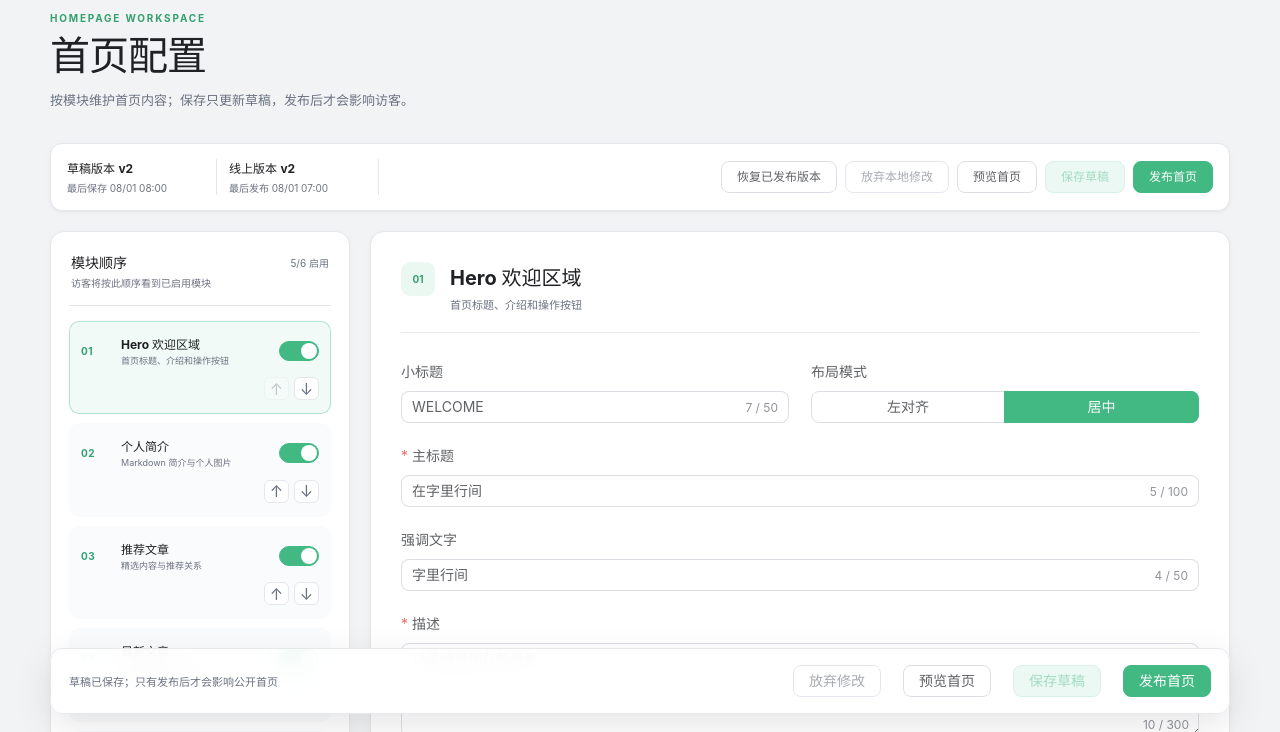
HomepageSettingsView › loads all fixed modules and tracks order changes as a draft
Click the button named "下移Hero 欢迎区域".
click(306, 389)  # box [294,377,319,400]
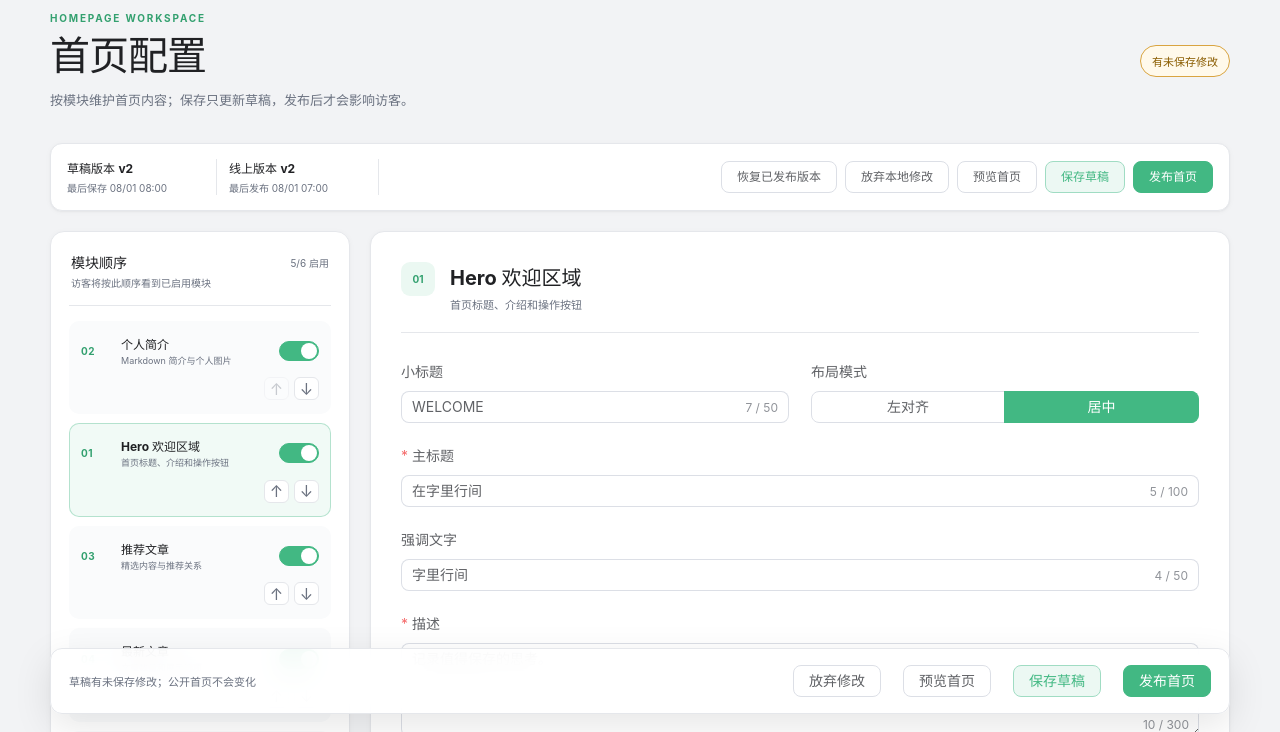
Now the text "有未保存修改" is shown, box [1140,44,1230,76]
Click the button "放弃本地修改".
click(897, 177)  # box [845,161,949,193]
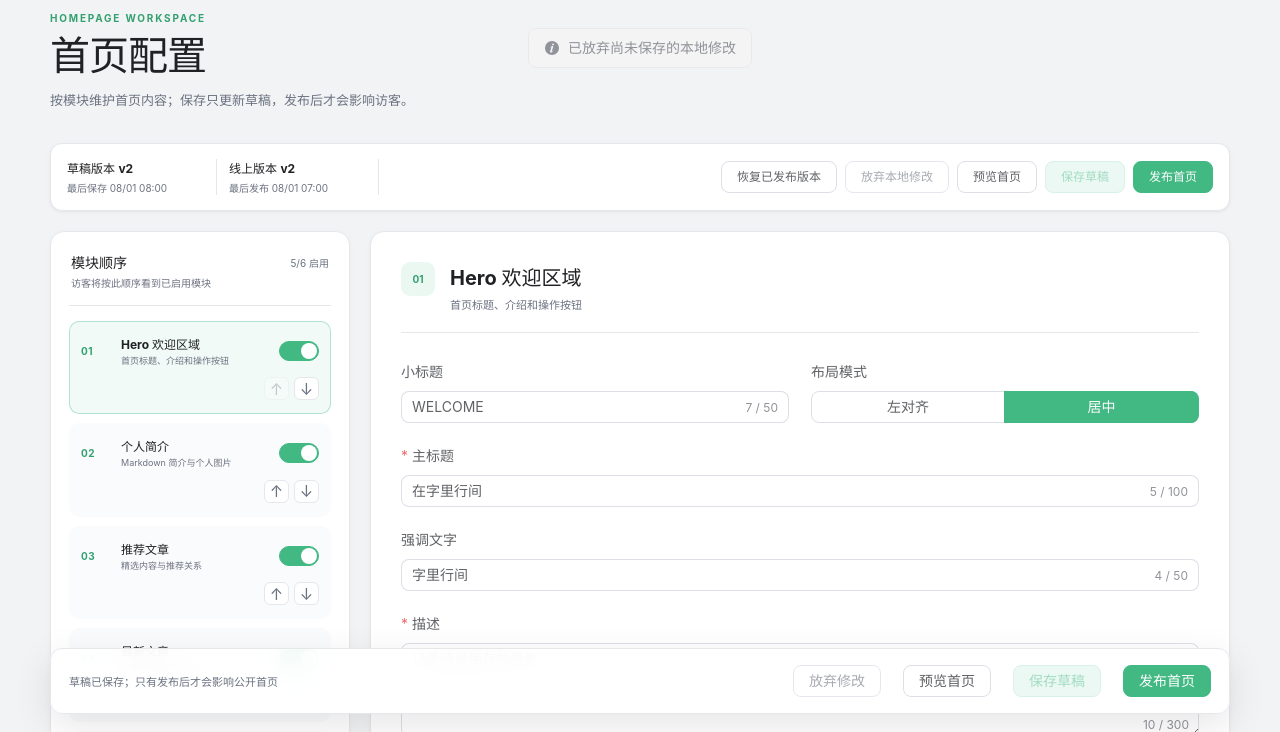
Now the text "有未保存修改" is gone
